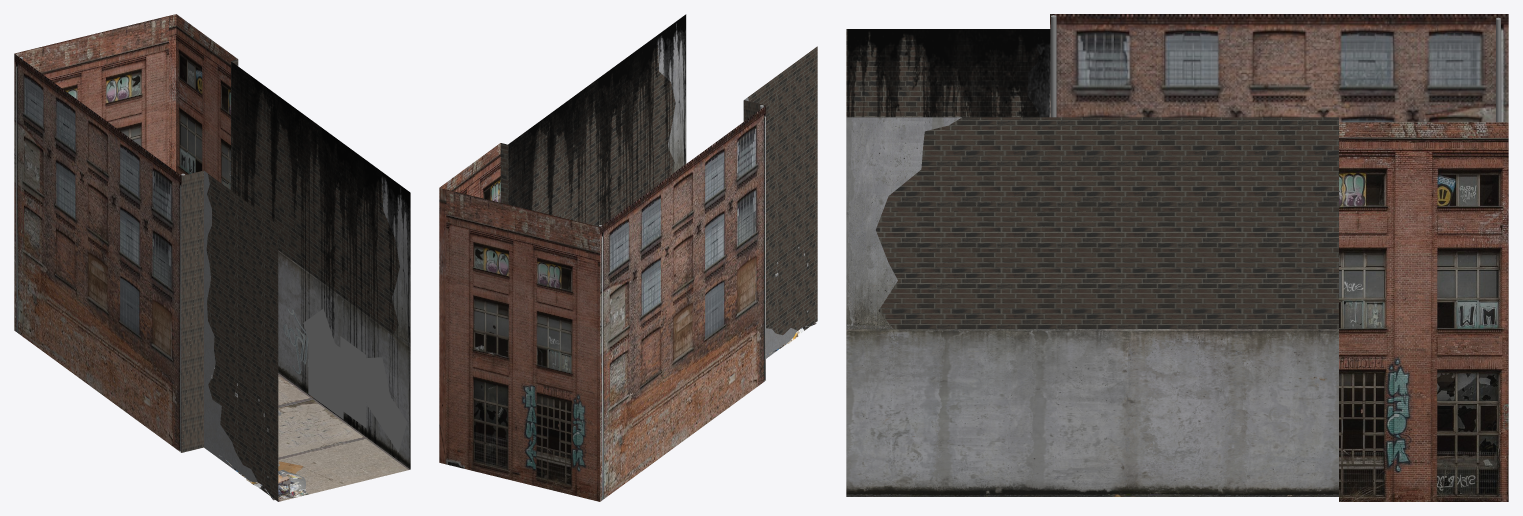
The picture shows the model from 3 angles, left to right: view 1: azimuth 30°, elevation 25°; view 2: azimuth 150°, elevation 25°; view 3: azimuth 270°, elevation 25°; orthographic projection. The views are drawn at different scales.
Parts seen in each view (by area): view 1: Plane_1, Plane.002_3, Plane.001_2, Plane.003_47, Plane.022_56, Plane.011_54, Plane.015_55, Plane.009_52, Plane.010_53, Plane.017_12, Plane.023_57; view 2: Plane_1, Plane.002_3, Plane.003_47, Plane.001_2; view 3: Plane.002_3, Plane_1, Plane.004_48, Plane.001_2.
Boxes of the visible parts, bbox=[...] form: Plane_1: bbox=[14, 16, 409, 501]; Plane.002_3: bbox=[169, 14, 410, 469]; Plane.001_2: bbox=[181, 170, 278, 501]; Plane.003_47: bbox=[231, 61, 410, 468]; Plane.022_56: bbox=[303, 308, 340, 398]; Plane.011_54: bbox=[340, 336, 366, 427]; Plane.015_55: bbox=[366, 373, 407, 452]; Plane.009_52: bbox=[308, 339, 343, 419]; Plane.010_53: bbox=[356, 357, 390, 402]; Plane.017_12: bbox=[246, 470, 308, 500]; Plane.023_57: bbox=[283, 308, 308, 374]; Plane_1: bbox=[446, 106, 765, 501]; Plane.002_3: bbox=[439, 14, 686, 464]; Plane.003_47: bbox=[508, 14, 685, 226]; Plane.001_2: bbox=[744, 46, 817, 358]; Plane.002_3: bbox=[846, 117, 1508, 501]; Plane_1: bbox=[1050, 14, 1508, 122]; Plane.004_48: bbox=[847, 29, 1050, 117]; Plane.001_2: bbox=[846, 29, 1049, 117].
Size of the model in its own units: 14.64 by 23.8 by 37.55.
